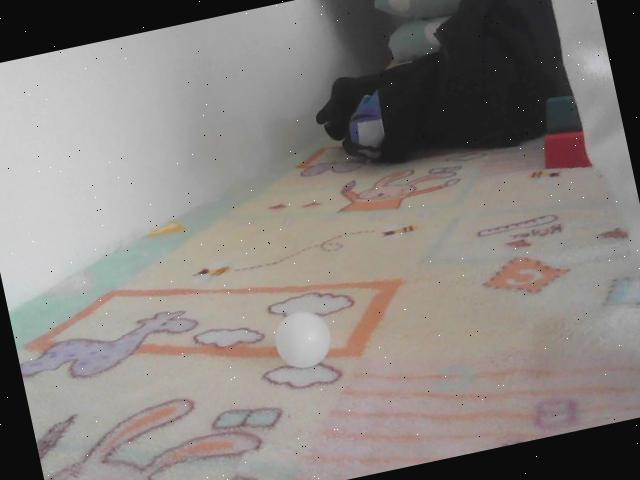ball: (272, 307, 336, 373)
